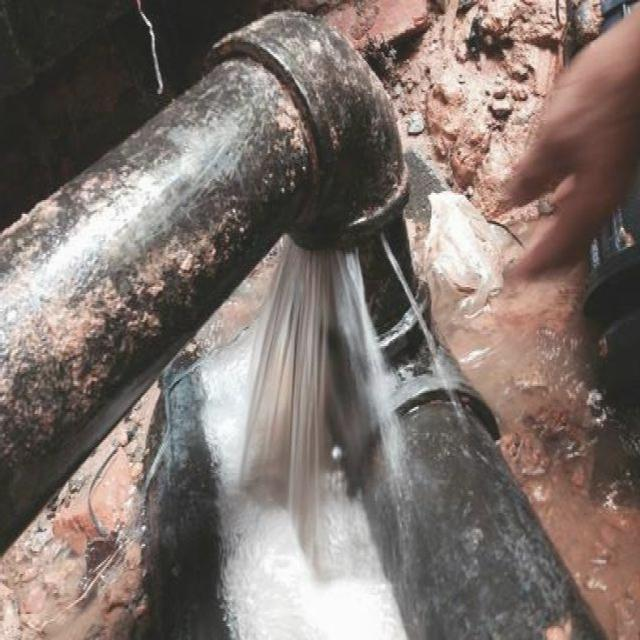Leak: (273, 212, 392, 275)
